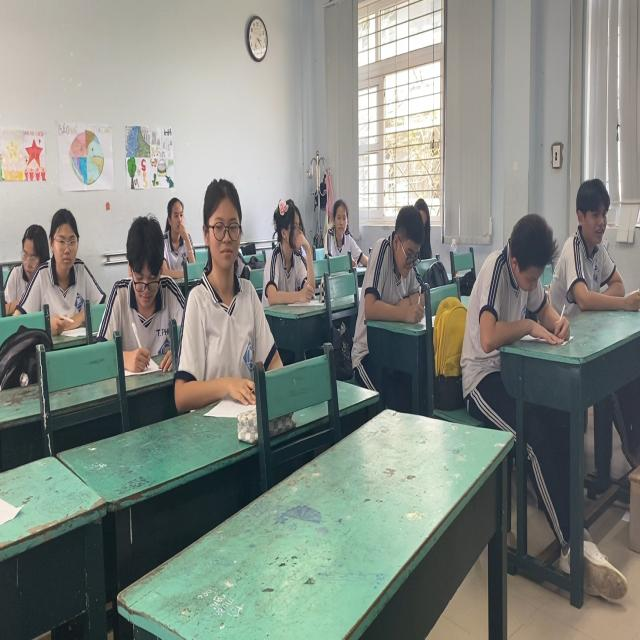not_cheating: (186, 174, 264, 388), (561, 167, 637, 333), (103, 215, 182, 368), (464, 205, 548, 340), (21, 208, 102, 333), (359, 201, 429, 333), (262, 188, 314, 301), (159, 198, 199, 270), (322, 192, 361, 264)
